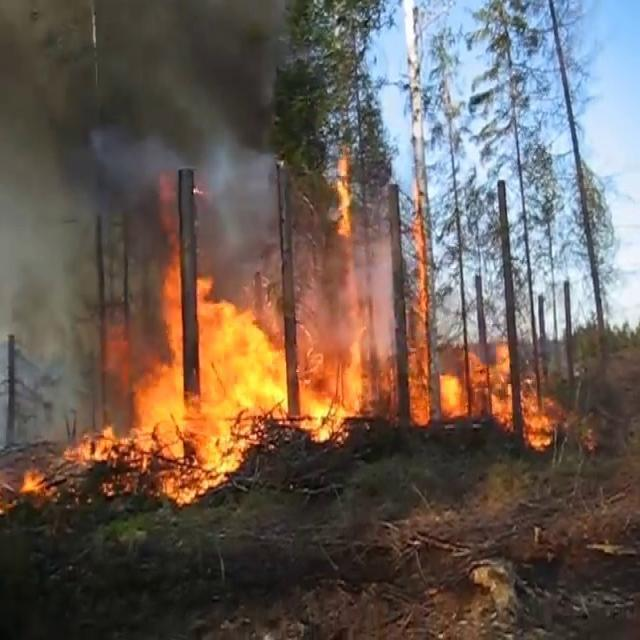Fire: (106, 246, 617, 550), (17, 405, 216, 543)
Smoke: (23, 5, 401, 131), (0, 0, 92, 338)
